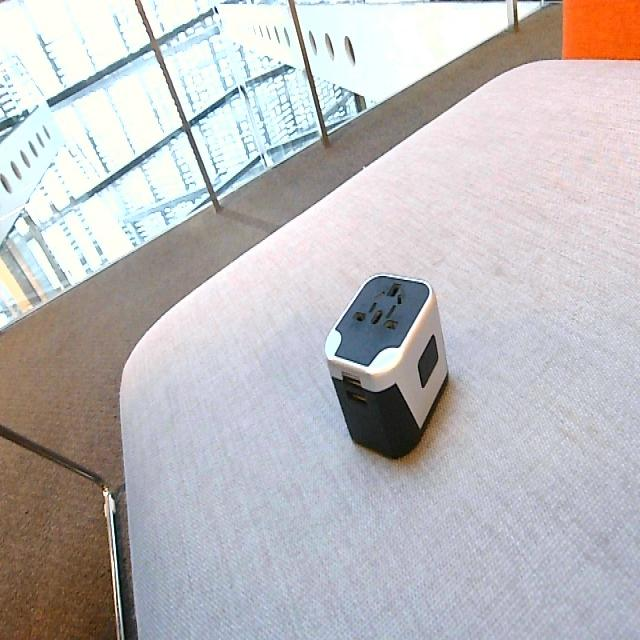adapter: (323, 271, 449, 458)
